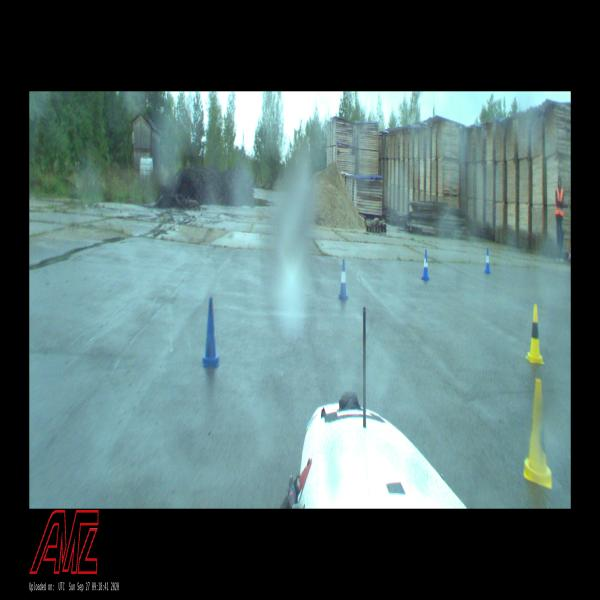blue_cone: (202, 298, 220, 369), (338, 260, 348, 300), (421, 249, 430, 282), (484, 246, 490, 274)
yellow_cone: (524, 379, 552, 490), (525, 302, 544, 366)
